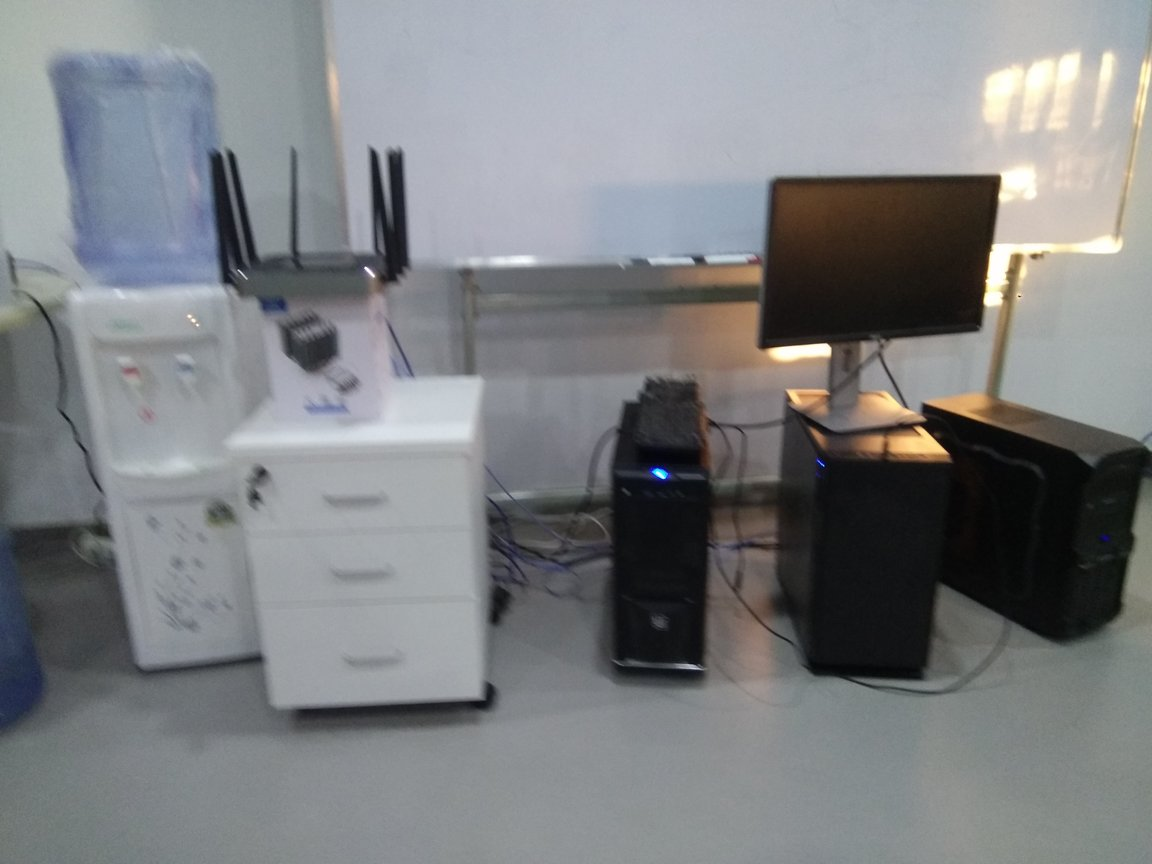computer: (923, 388, 1144, 652), (777, 388, 941, 690), (606, 395, 725, 694)
drawer chest: (236, 370, 506, 725)
monitor: (761, 165, 1006, 442)
scuttlebutt: (40, 52, 238, 287)
water dispenser: (63, 277, 284, 662)
